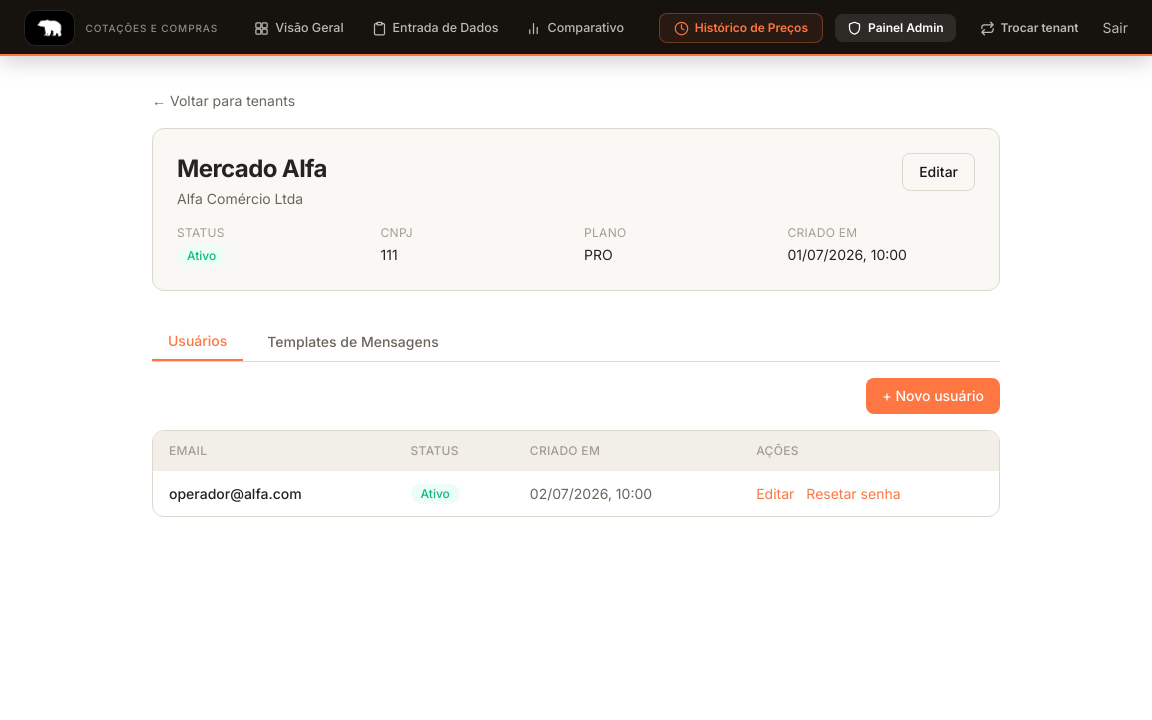
Test case: TenantDetalhePage — ação Editar › clicar em 'Editar' na linha do usuário abre o modal de edição
Expected: the text "operador@alfa.com" is shown, [153,471,395,516]
Click the button "Editar" in the row of "operador@alfa.com": (775, 494) [756,484,794,504]
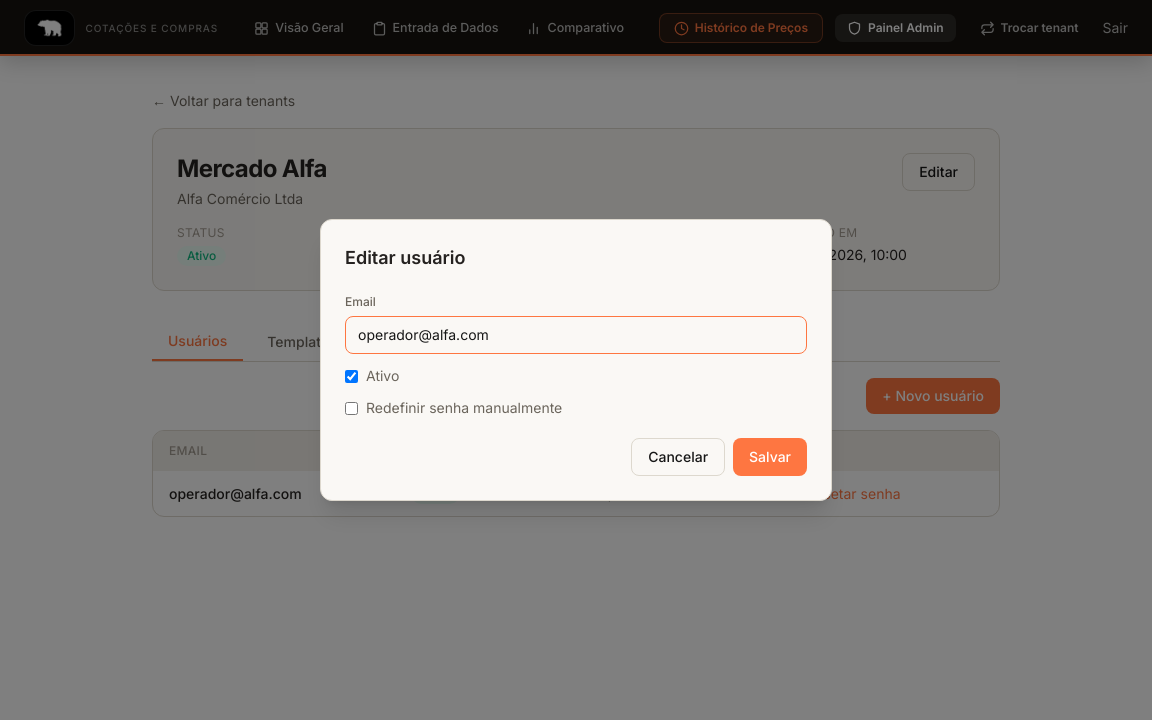
Result: the heading "Editar usuário" is shown at [345,247,466,268]
